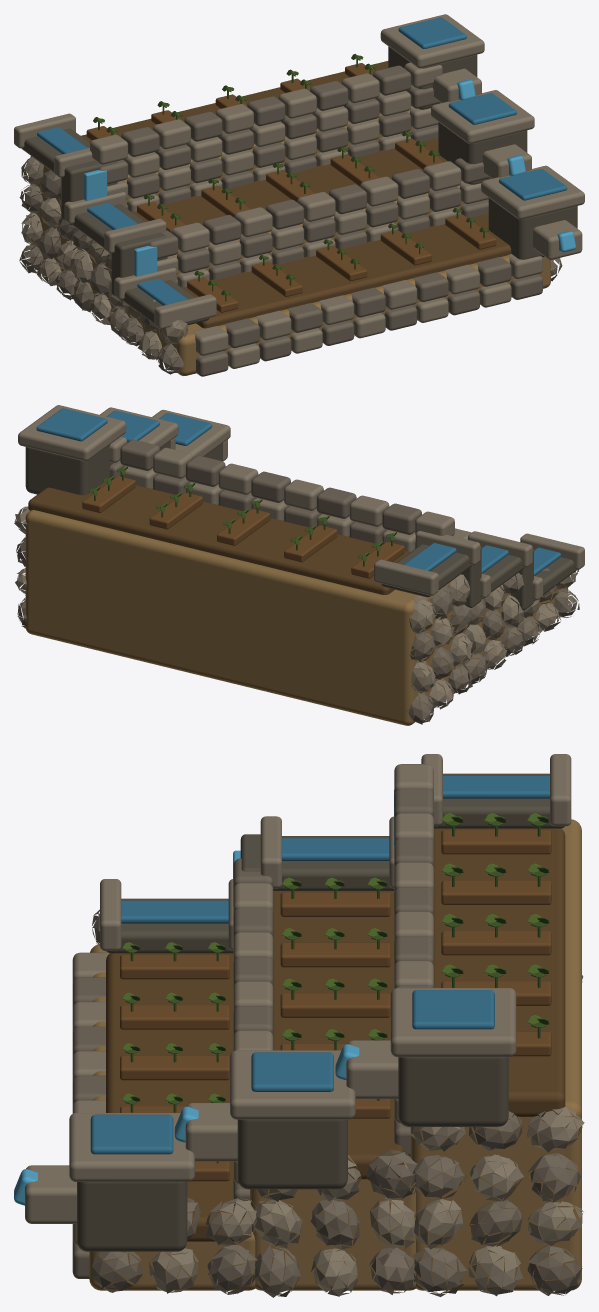
The model's file is terrace.glb.
3 views of the same model, one above another, from view 1: azimuth 30°, elevation 25°; view 2: azimuth 150°, elevation 25°; view 3: azimuth 270°, elevation 25° (orthographic). The views are drawn at different scales.
Visible parts, largest first — view 1: terrace-farm-stone, terrace-farm-rock, terrace-farm-soil, terrace-farm-stone-dark, terrace-farm-wood-shadow, terrace-farm-water-deep, terrace-farm-dirt, terrace-farm-water, terrace-farm-leaf-dark, terrace-farm-leaf; view 2: terrace-farm-dirt, terrace-farm-stone, terrace-farm-rock, terrace-farm-soil, terrace-farm-stone-dark, terrace-farm-water-deep, terrace-farm-wood-shadow, terrace-farm-leaf-dark; view 3: terrace-farm-stone, terrace-farm-soil, terrace-farm-stone-dark, terrace-farm-rock, terrace-farm-wood-shadow, terrace-farm-dirt, terrace-farm-water-deep, terrace-farm-leaf-dark, terrace-farm-leaf, terrace-farm-water.
Part boxes in pixels (x1,y1,x2,y2): terrace-farm-stone: [14, 14, 584, 368]; terrace-farm-rock: [19, 65, 562, 376]; terrace-farm-soil: [81, 61, 511, 328]; terrace-farm-stone-dark: [21, 46, 577, 329]; terrace-farm-wood-shadow: [86, 63, 496, 312]; terrace-farm-water-deep: [37, 17, 567, 305]; terrace-farm-dirt: [30, 106, 550, 375]; terrace-farm-water: [84, 80, 575, 276]; terrace-farm-leaf-dark: [93, 54, 489, 301]; terrace-farm-leaf: [96, 55, 486, 295]; terrace-farm-dirt: [25, 510, 567, 725]; terrace-farm-stone: [14, 405, 584, 709]; terrace-farm-rock: [16, 439, 579, 724]; terrace-farm-soil: [28, 482, 410, 594]; terrace-farm-stone-dark: [25, 441, 576, 610]; terrace-farm-water-deep: [36, 408, 560, 575]; terrace-farm-wood-shadow: [82, 476, 404, 578]; terrace-farm-leaf-dark: [89, 467, 394, 566]; terrace-farm-stone: [25, 754, 584, 1296]; terrace-farm-soil: [106, 828, 565, 1241]; terrace-farm-stone-dark: [77, 773, 564, 1251]; terrace-farm-rock: [72, 788, 583, 1297]; terrace-farm-wood-shadow: [120, 830, 551, 1181]; terrace-farm-dirt: [89, 819, 581, 1290]; terrace-farm-water-deep: [90, 775, 549, 1154]; terrace-farm-leaf-dark: [125, 816, 549, 1163]; terrace-farm-leaf: [122, 813, 541, 1101]; terrace-farm-water: [14, 790, 394, 1205].
Size of the model in its own units: 5.04 by 2.05 by 3.73.
